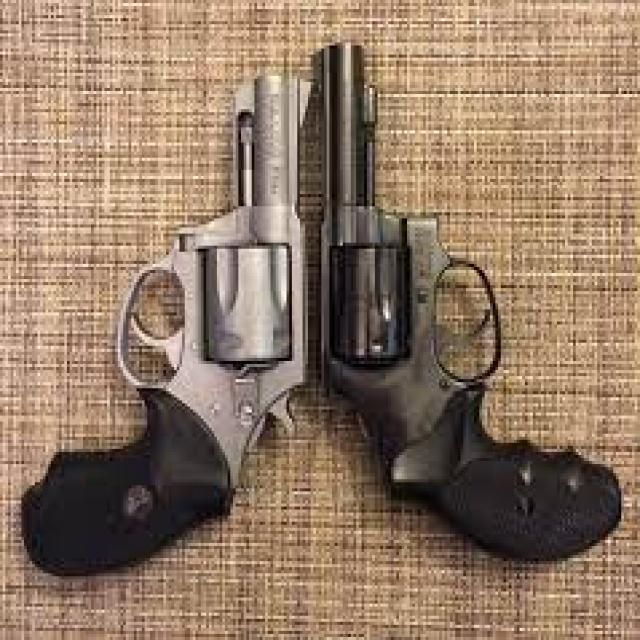Gun: (324, 24, 640, 559), (15, 33, 315, 577)
